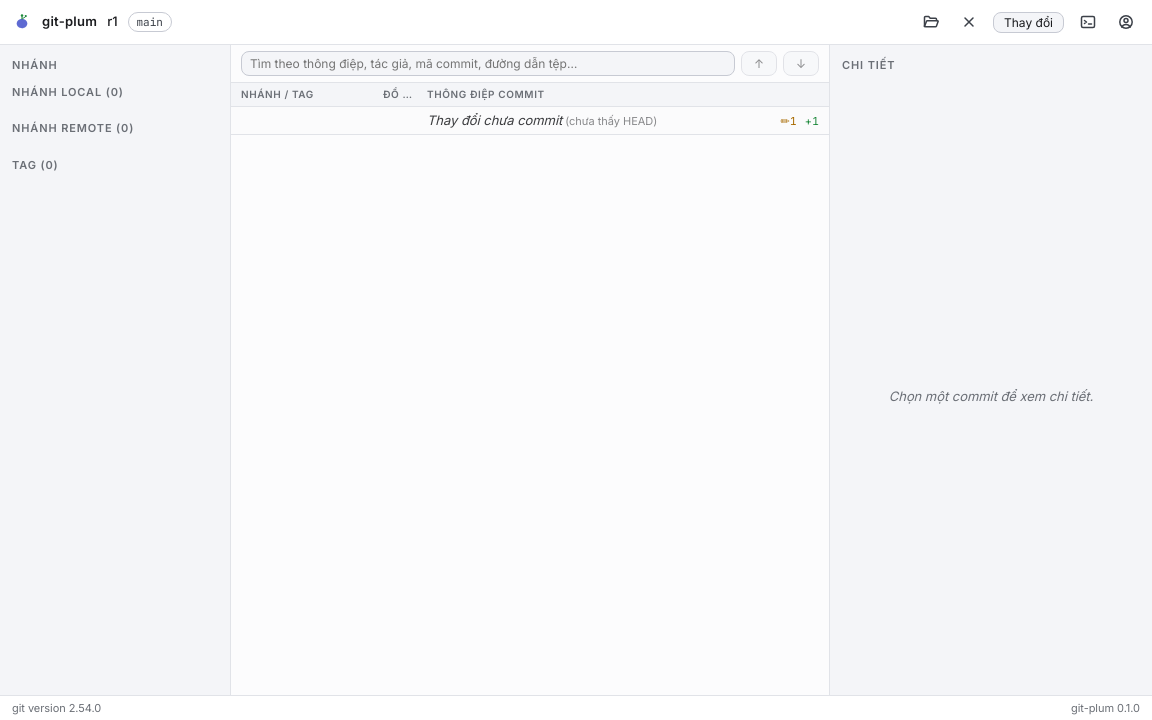
Test case: vòng commit nối vào App (WORK-10, WORK-11) › đóng vùng soạn → vùng chi tiết quay lại chi tiết commit
Click the button with test id "wip-row".
click(530, 121)  # box x1=231 y1=107 x2=829 y2=135
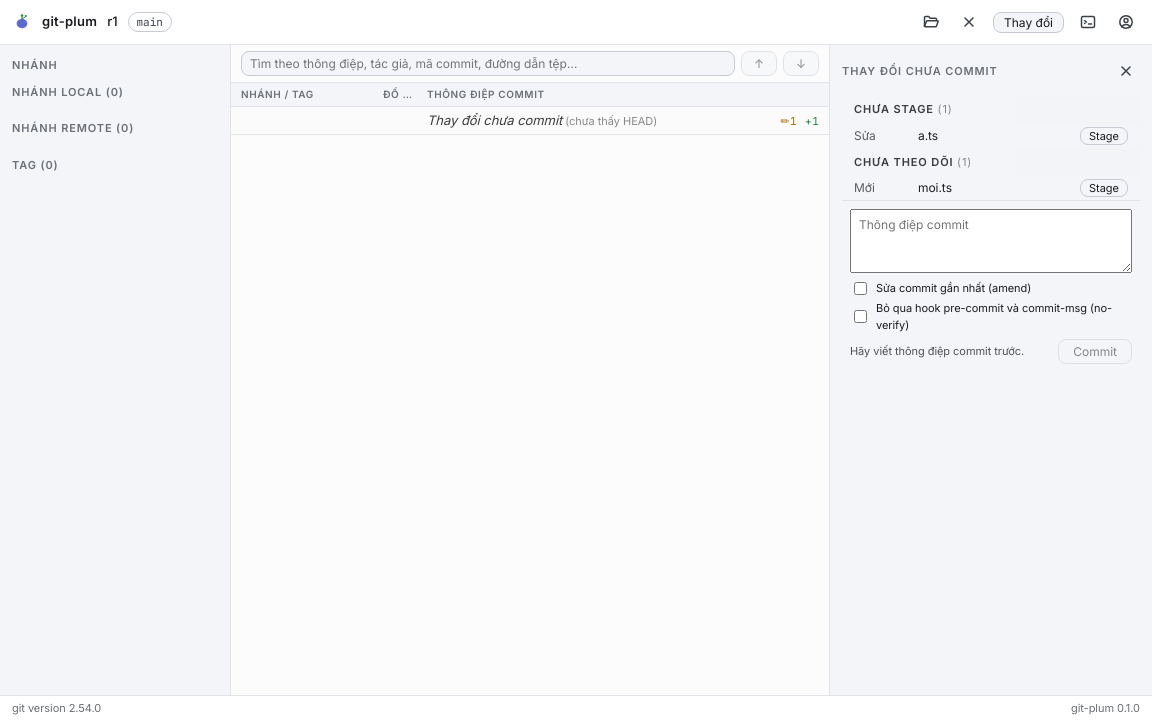
Expected: the element with test id "commit-box" is shown, x1=842 y1=200 x2=1140 y2=372
Click the button named "Đóng vùng soạn commit".
click(1126, 71)  # box x1=1112 y1=57 x2=1140 y2=85
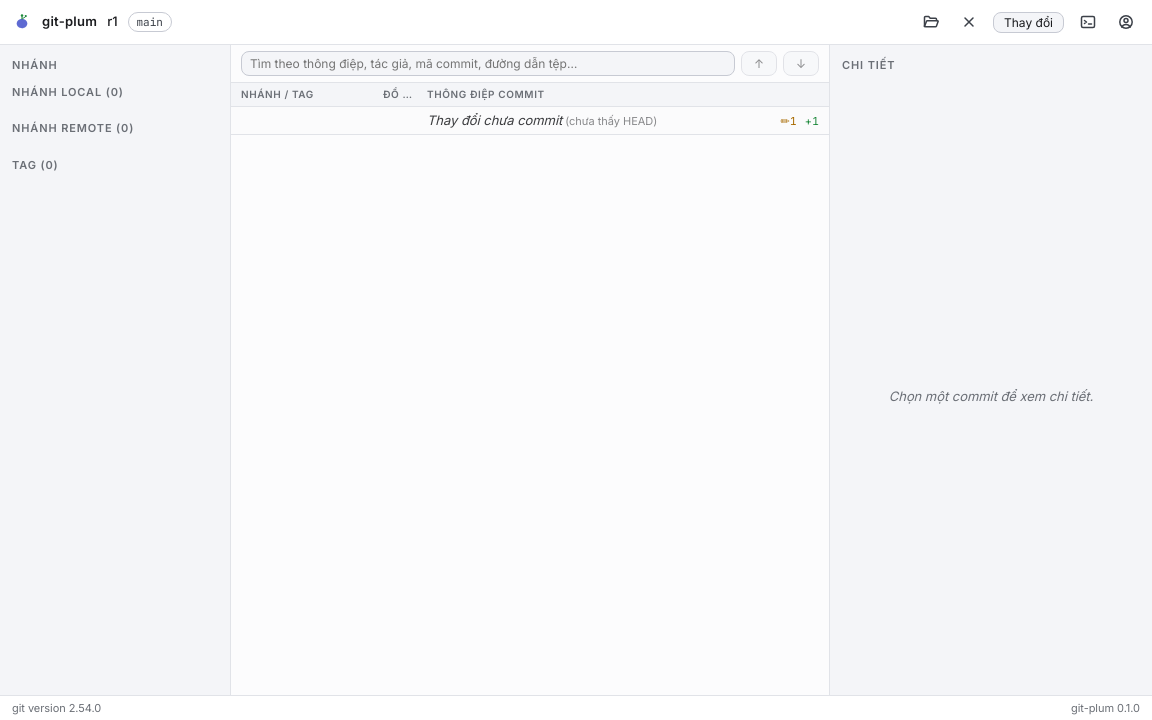
Expected: the element with test id "commit-box" is gone
Expected: the element with test id "change-list" is gone
